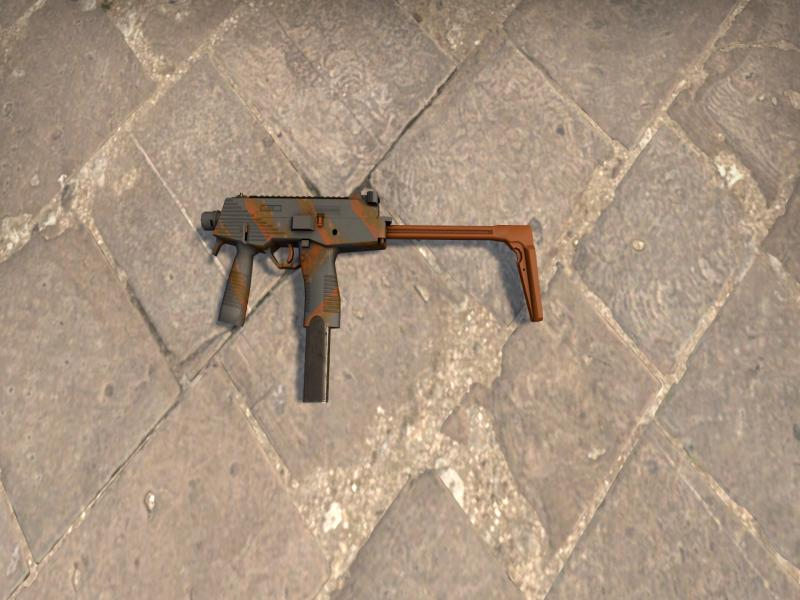MP9: (201, 191, 543, 402)
